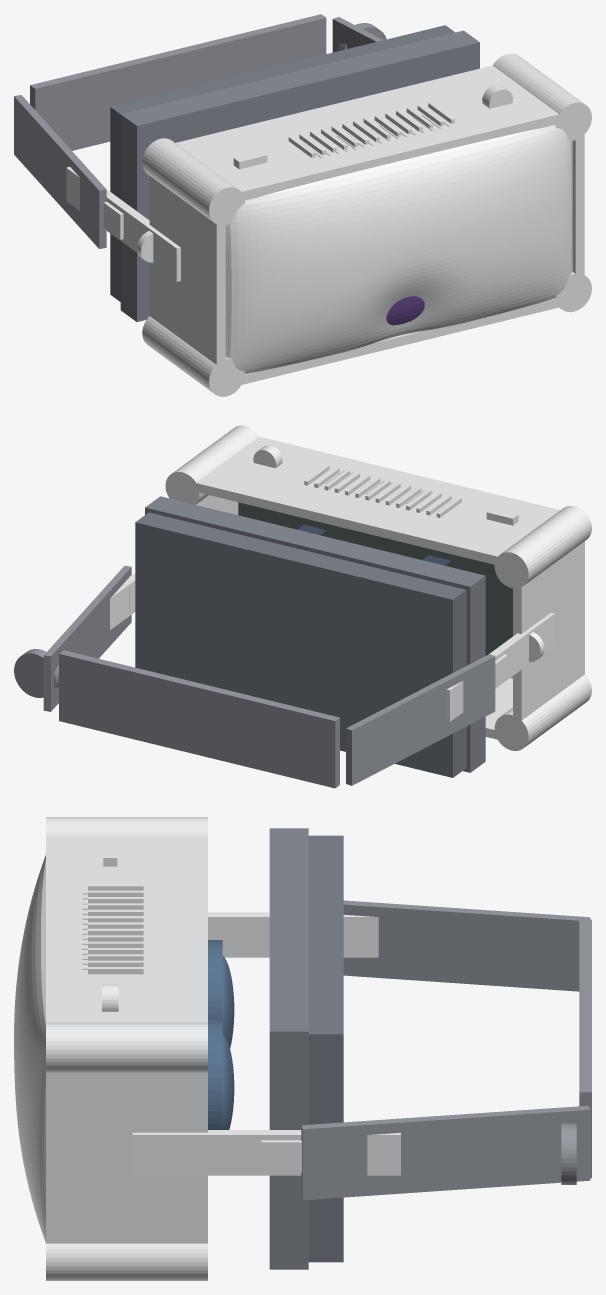
Rendered from vision_pro_exploded.glb.
The picture shows the model from 3 angles, top to bottom: view 1: azimuth 30°, elevation 25°; view 2: azimuth 150°, elevation 25°; view 3: azimuth 270°, elevation 25°; orthographic projection. The views are drawn at different scales.
Parts seen in each view (by area): view 1: vision_glass_visor, vision_aluminum_frame, vision_solo_knit_band, vision_light_seal, vision_light_seal_cushion, vision_audio_straps, vision_eyesight_oled; view 2: vision_light_seal_cushion, vision_aluminum_frame, vision_solo_knit_band, vision_light_seal, vision_logic_board, vision_audio_straps; view 3: vision_aluminum_frame, vision_solo_knit_band, vision_light_seal, vision_audio_straps, vision_light_seal_cushion, vision_glass_visor, vision_catadioptric_optics_right, vision_catadioptric_optics_left.
Part boxes in pixels (x1,y1,x2,y2): vision_glass_visor: [225, 124, 572, 373]; vision_aluminum_frame: [142, 53, 591, 396]; vision_solo_knit_band: [14, 14, 386, 248]; vision_light_seal: [120, 30, 479, 321]; vision_light_seal_cushion: [110, 25, 454, 301]; vision_audio_straps: [66, 167, 180, 281]; vision_eyesight_oled: [386, 296, 424, 325]; vision_light_seal_cushion: [135, 512, 466, 777]; vision_aluminum_frame: [165, 425, 591, 750]; vision_solo_knit_band: [14, 565, 495, 788]; vision_light_seal: [145, 496, 485, 772]; vision_logic_board: [238, 502, 512, 655]; vision_audio_straps: [110, 573, 554, 721]; vision_aluminum_frame: [46, 817, 207, 1280]; vision_solo_knit_band: [301, 900, 591, 1200]; vision_light_seal: [269, 828, 308, 1269]; vision_audio_straps: [132, 912, 400, 1175]; vision_light_seal_cushion: [308, 835, 343, 1262]; vision_glass_visor: [14, 855, 45, 1242]; vision_catadioptric_optics_right: [208, 1018, 234, 1129]; vision_catadioptric_optics_left: [208, 940, 234, 1048].
Size of the model in its own units: 20.05 by 10.4 by 20.67.
